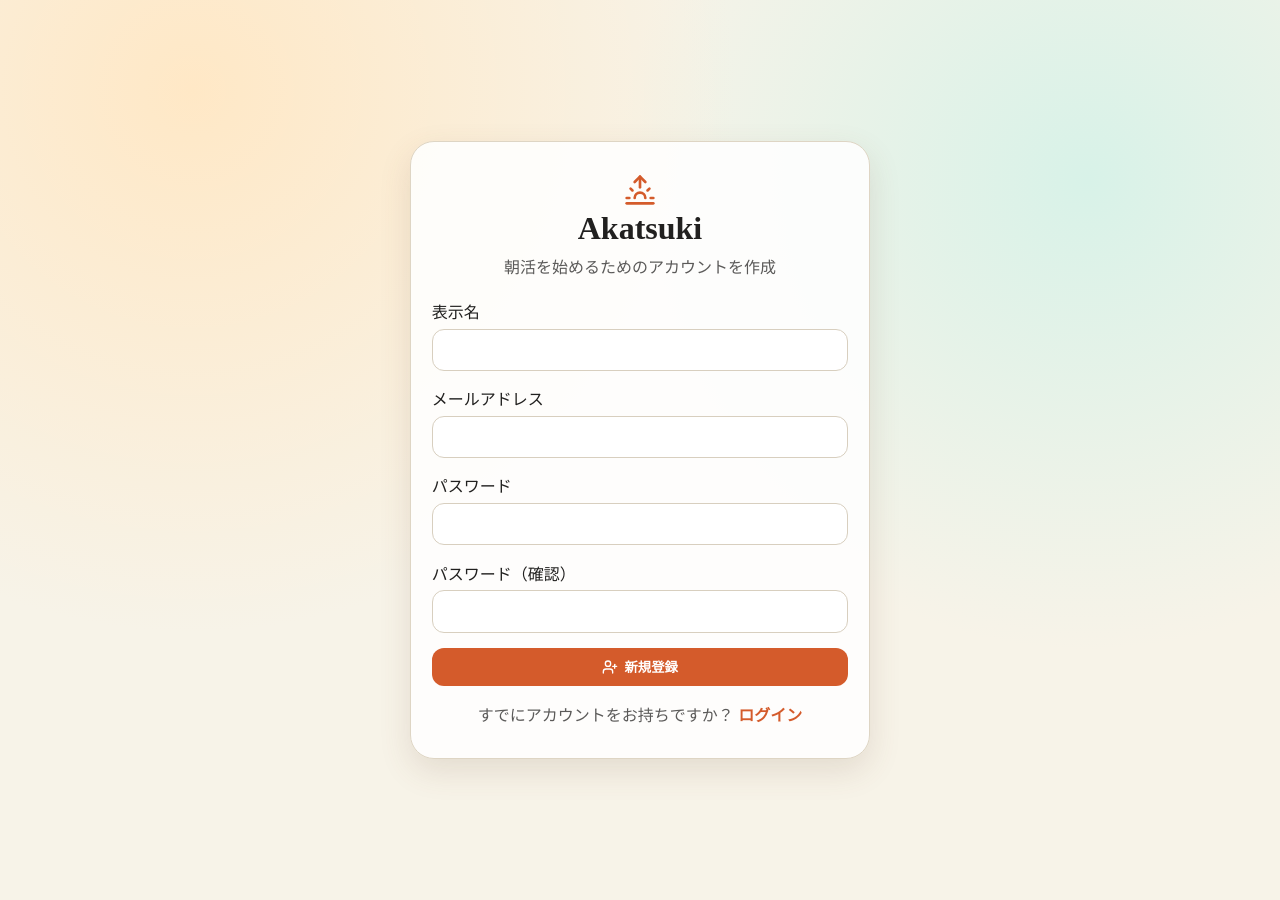
Scenario: RegisterPage › shows validation error when password confirmation mismatches
Type "Foo User" into the field labelled "表示名".
click(640, 350); type("Foo User")  # box [432,329,848,371]
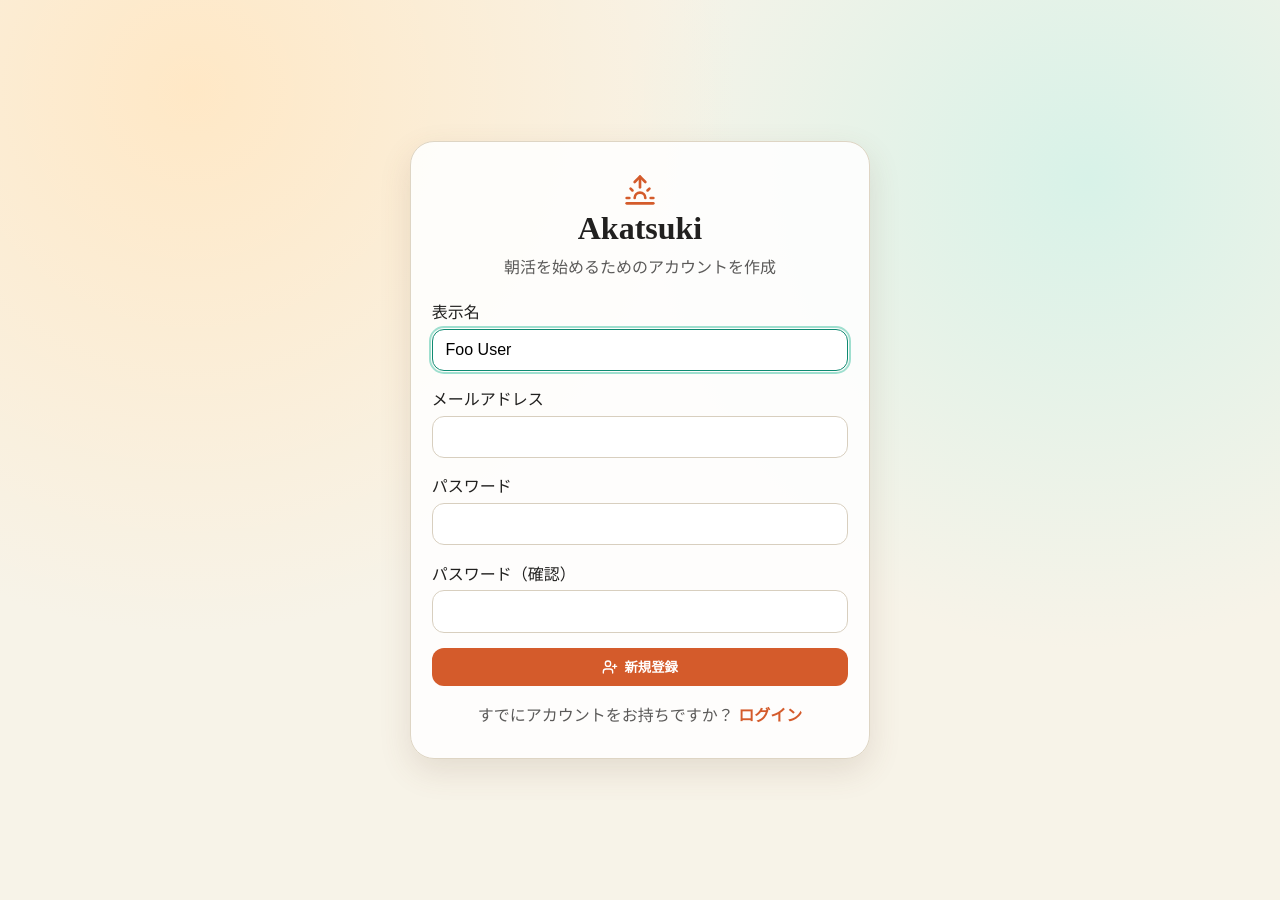
Type "foo@example.com" into the field labelled "メールアドレス".
click(640, 437); type("foo@example.com")  # box [432,416,848,458]
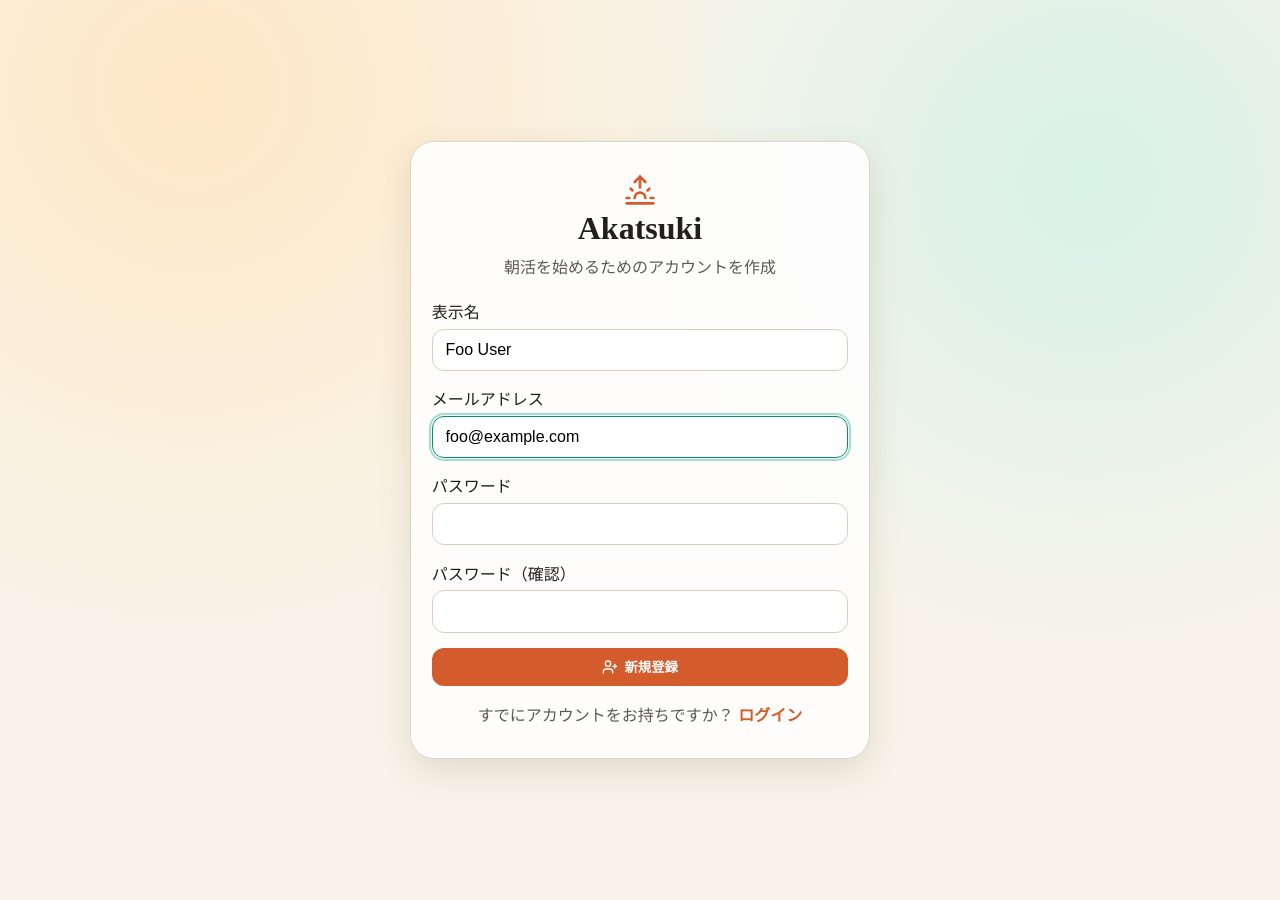
Type "password123" into the password field labelled "パスワード".
click(640, 524); type("password123")  # box [432,503,848,545]
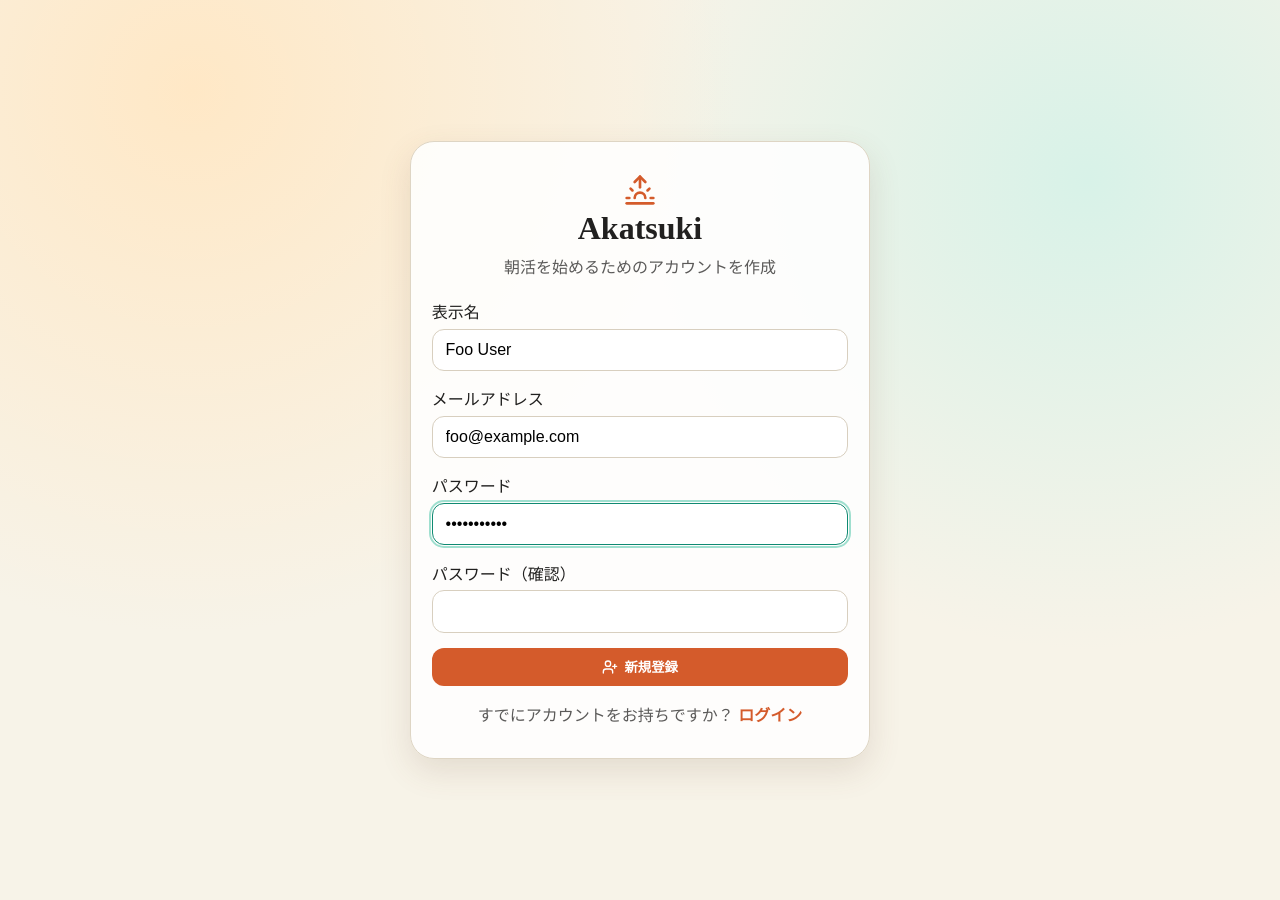
Type "password321" into the password field labelled "パスワード（確認）".
click(640, 611); type("password321")  # box [432,590,848,632]
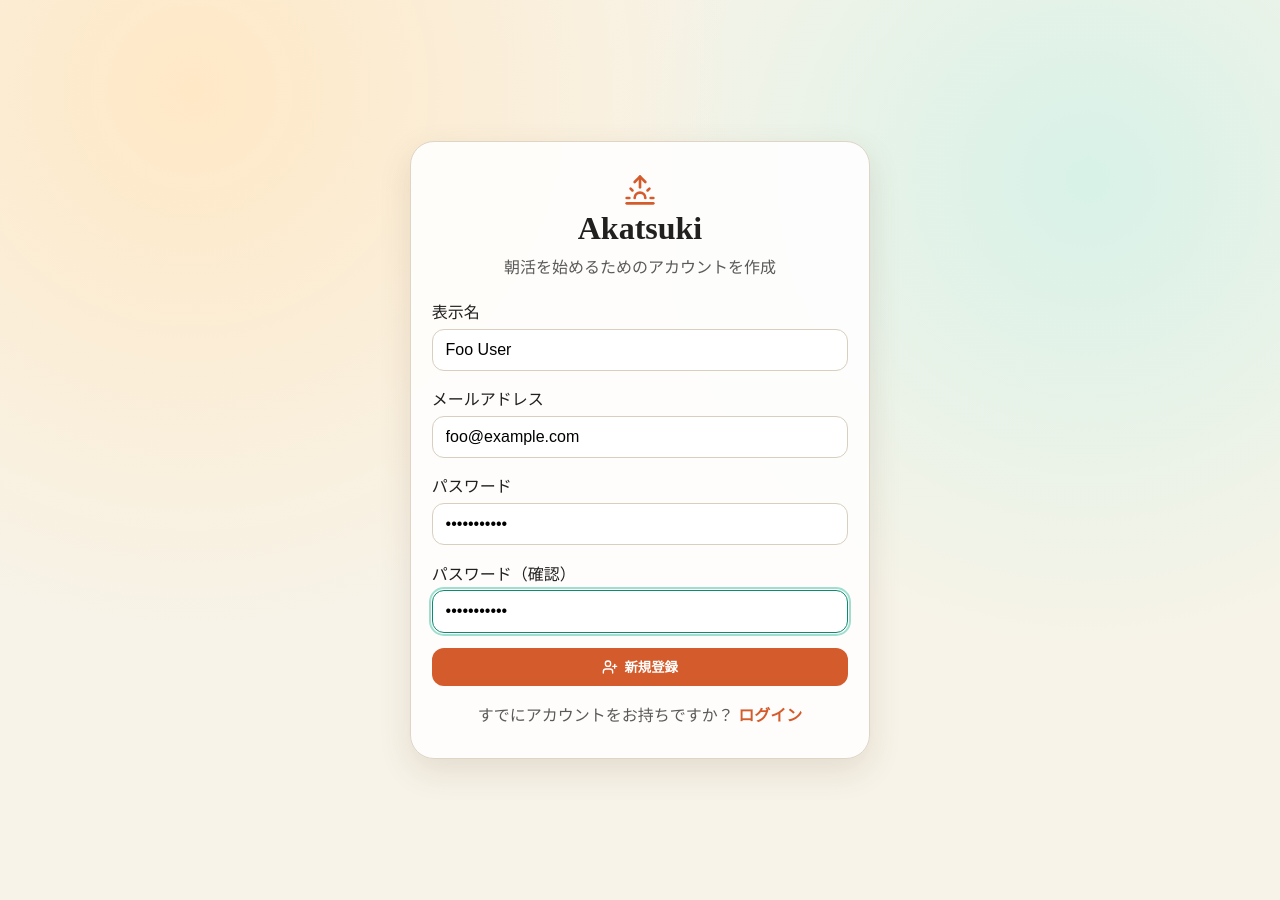
Click the button "新規登録".
click(640, 667)  # box [432,648,848,686]
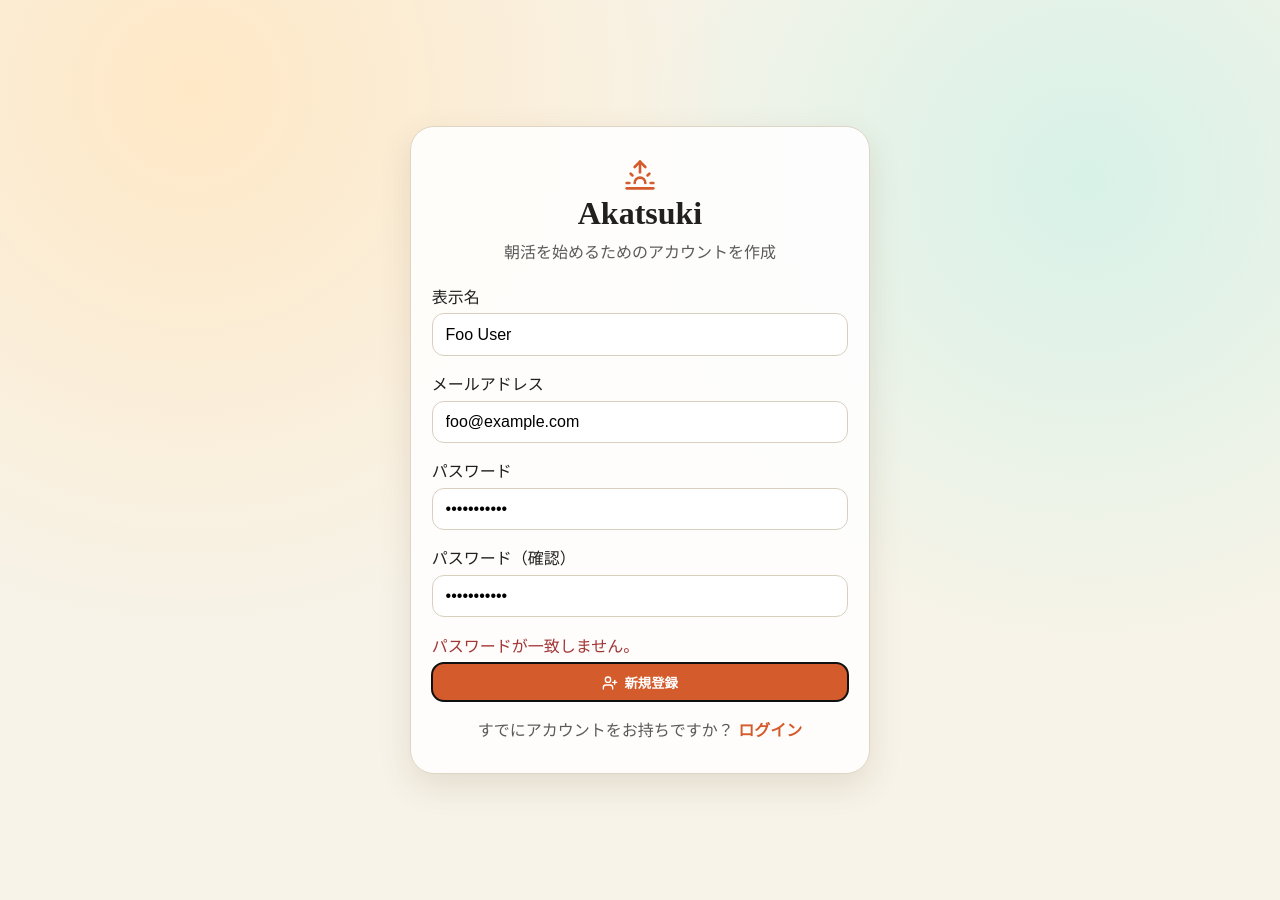
Expected: the text "パスワードが一致しません。" is shown, [432,638,639,654]
